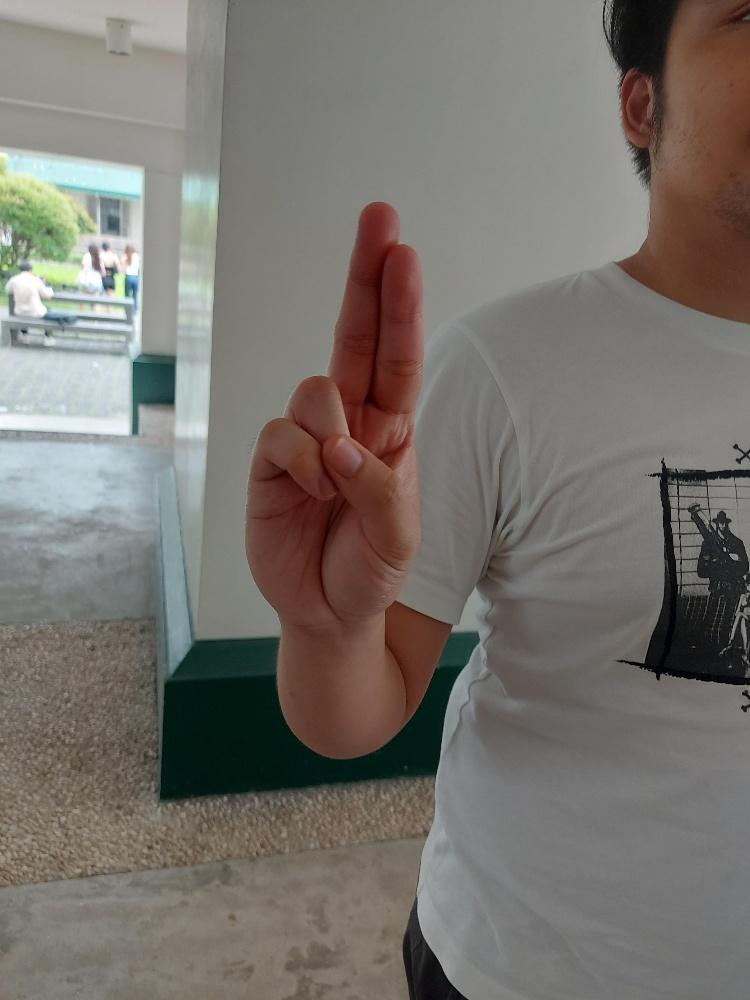u: (241, 196, 429, 635)
